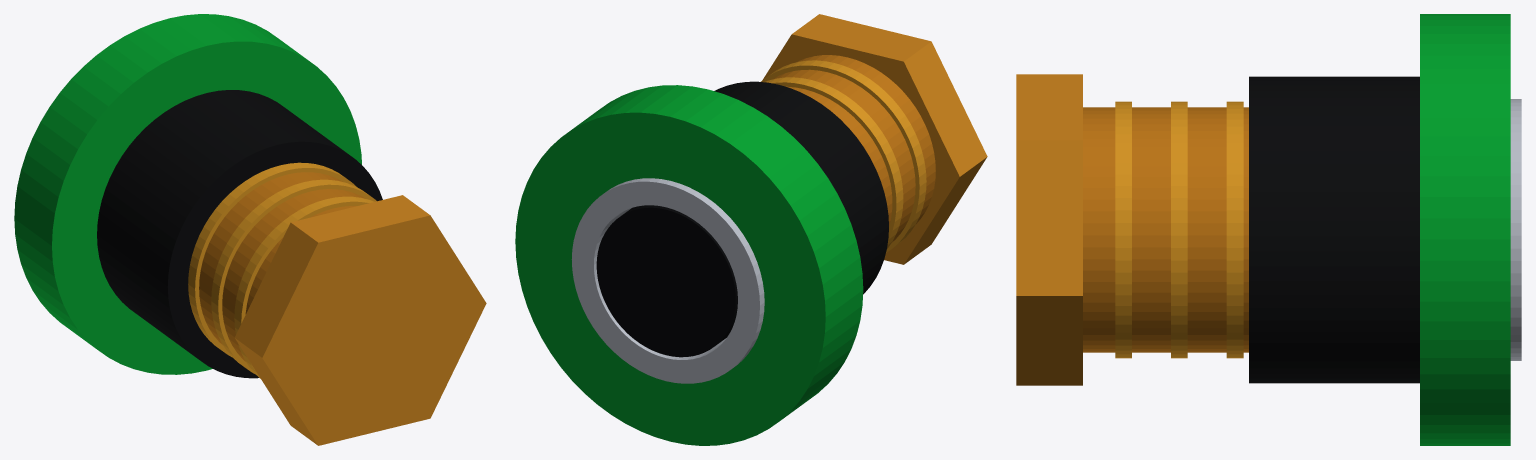
Rendered from JackConnector_Green.fbx.
3 views of the same model, side by side, from view 1: azimuth 30°, elevation 25°; view 2: azimuth 150°, elevation 25°; view 3: azimuth 270°, elevation 25° (orthographic). The views are drawn at different scales.
Visible parts, largest first — view 1: ColorCollar, HexNut, RearHousing, BrassBarrel, ThreadRidge1, ThreadRidge2, ThreadRidge3; view 2: ColorCollar, Socket, MetalRim, HexNut, RearHousing, BrassBarrel, ThreadRidge3, ThreadRidge2; view 3: RearHousing, ColorCollar, BrassBarrel, HexNut, ThreadRidge1, ThreadRidge2, ThreadRidge3, MetalRim.
Part boxes in pixels (x1,y1,x2,y2): ColorCollar: [14, 14, 361, 374]; HexNut: [234, 195, 486, 445]; RearHousing: [97, 90, 382, 378]; BrassBarrel: [199, 172, 365, 361]; ThreadRidge1: [188, 162, 357, 357]; ThreadRidge2: [211, 179, 376, 373]; ThreadRidge3: [234, 196, 374, 378]; ColorCollar: [515, 85, 863, 445]; Socket: [596, 205, 737, 357]; MetalRim: [571, 178, 764, 383]; HexNut: [763, 14, 987, 264]; RearHousing: [714, 81, 888, 294]; BrassBarrel: [772, 55, 935, 242]; ThreadRidge3: [761, 60, 926, 252]; ThreadRidge2: [764, 77, 903, 248]; RearHousing: [1249, 76, 1419, 383]; ColorCollar: [1420, 14, 1510, 445]; BrassBarrel: [1083, 107, 1248, 352]; HexNut: [1016, 74, 1082, 385]; ThreadRidge1: [1226, 101, 1243, 358]; ThreadRidge2: [1171, 101, 1187, 358]; ThreadRidge3: [1115, 101, 1131, 358]; MetalRim: [1510, 99, 1521, 360].
Size of the model in its own units: 0.031 by 0.031 by 0.0363.
